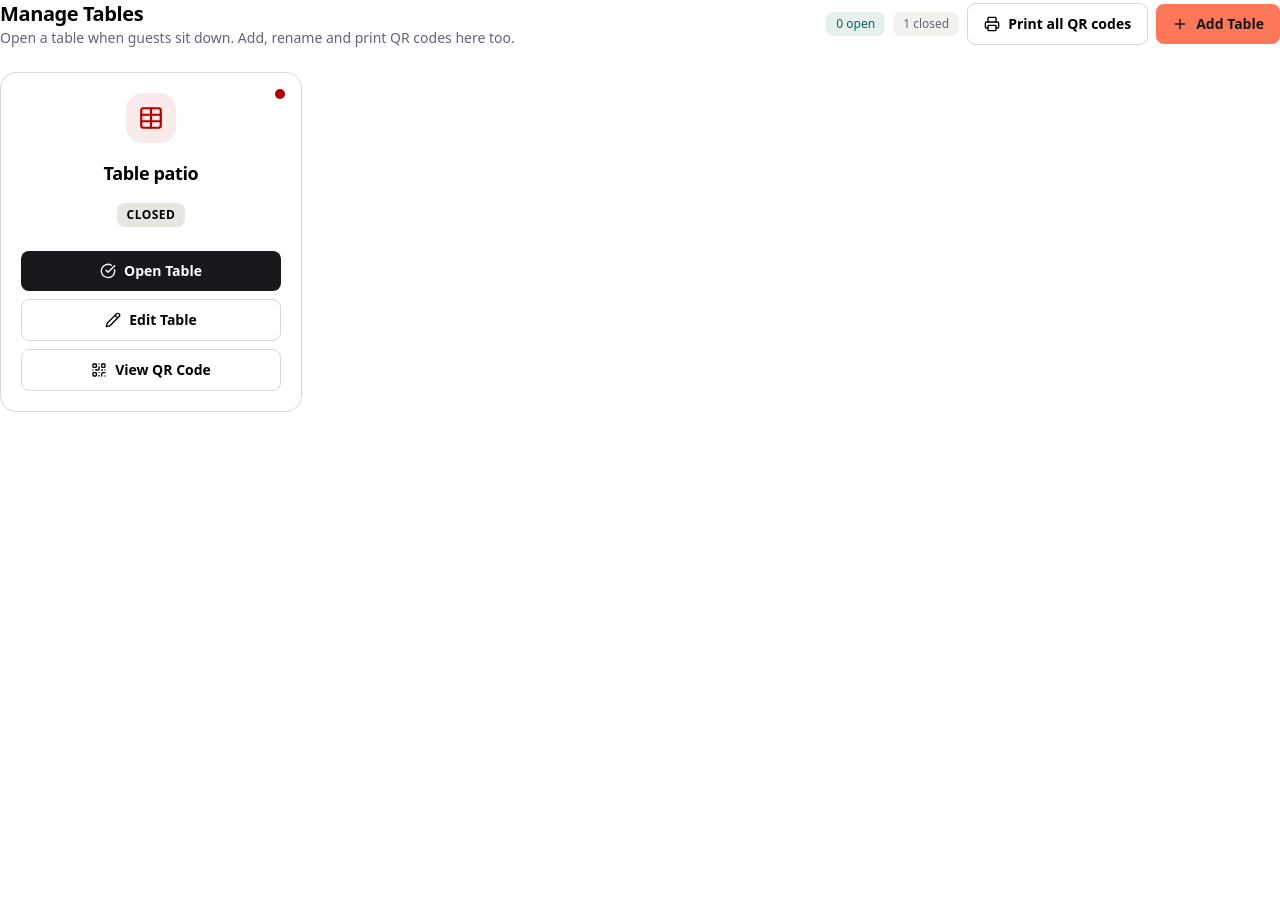
Test: adding a table whose name is taken (VM-16) › an automatic table that can't be added says so in the popup
This screenshot has width=1280, height=900.
Click the button "Add Table".
click(1218, 24)  # box [1156,4,1279,44]
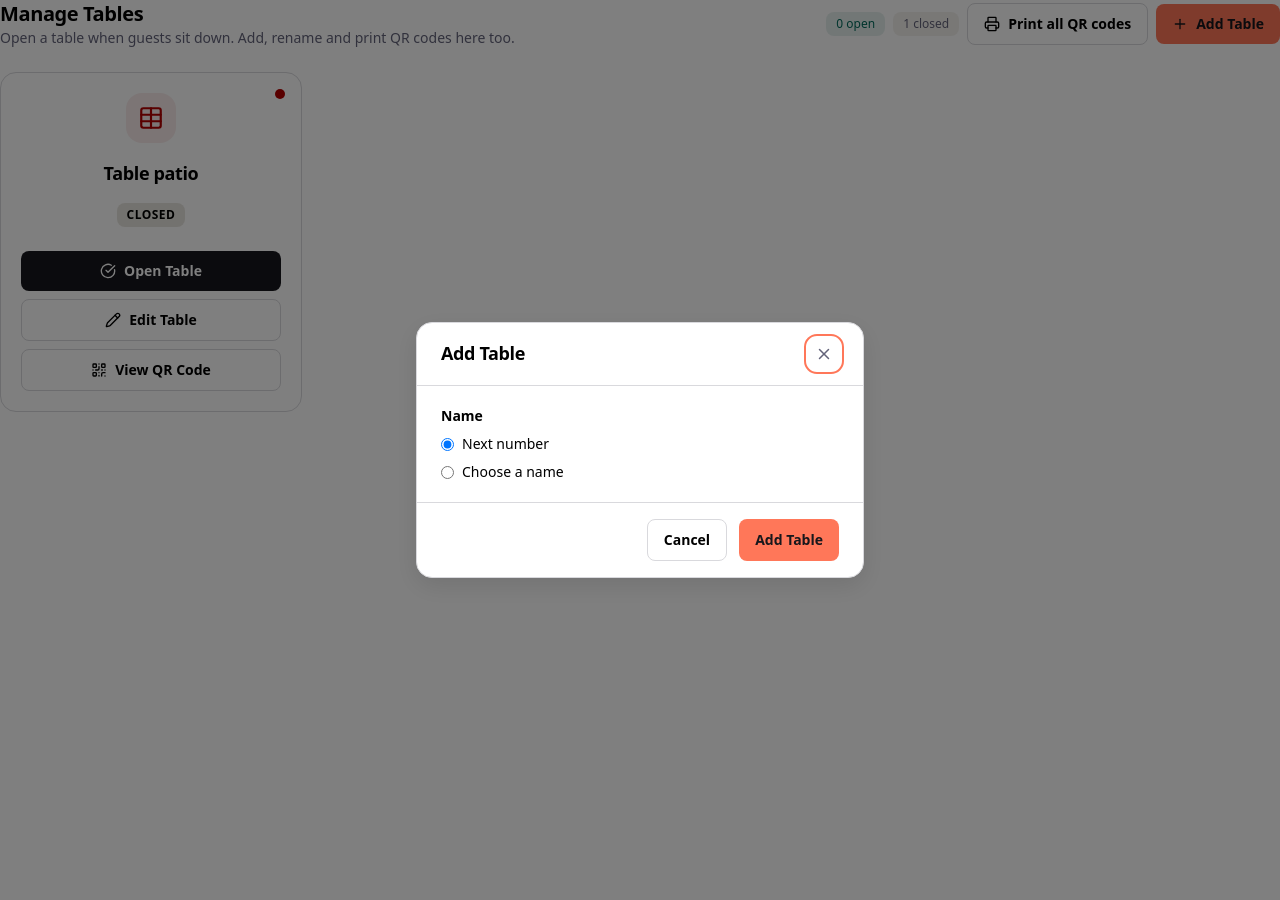
Click the button "Add Table".
click(789, 540)  # box [739,519,839,561]
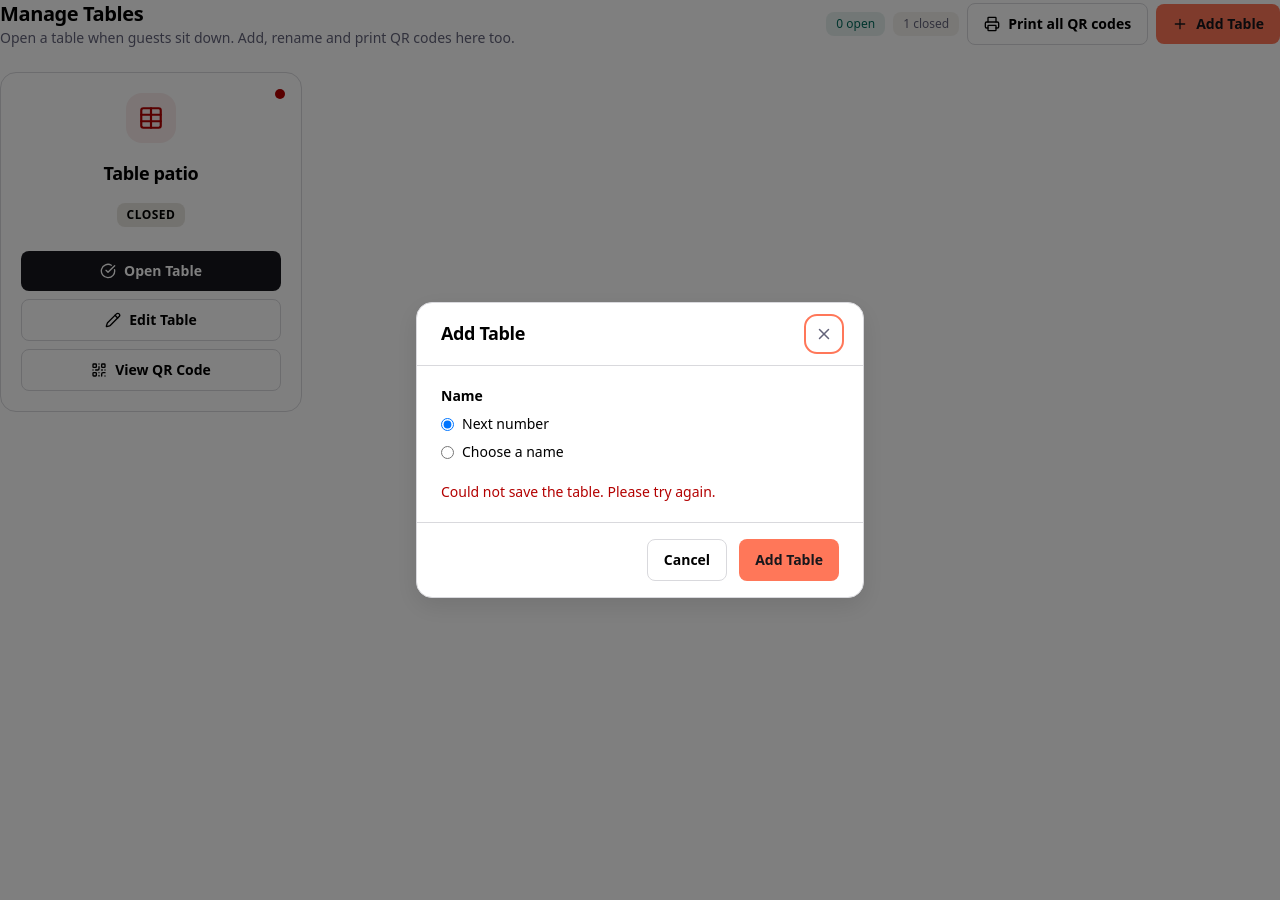
Expected: the message reads "Could not save the table. Please try again.", [441,482,716,501]
